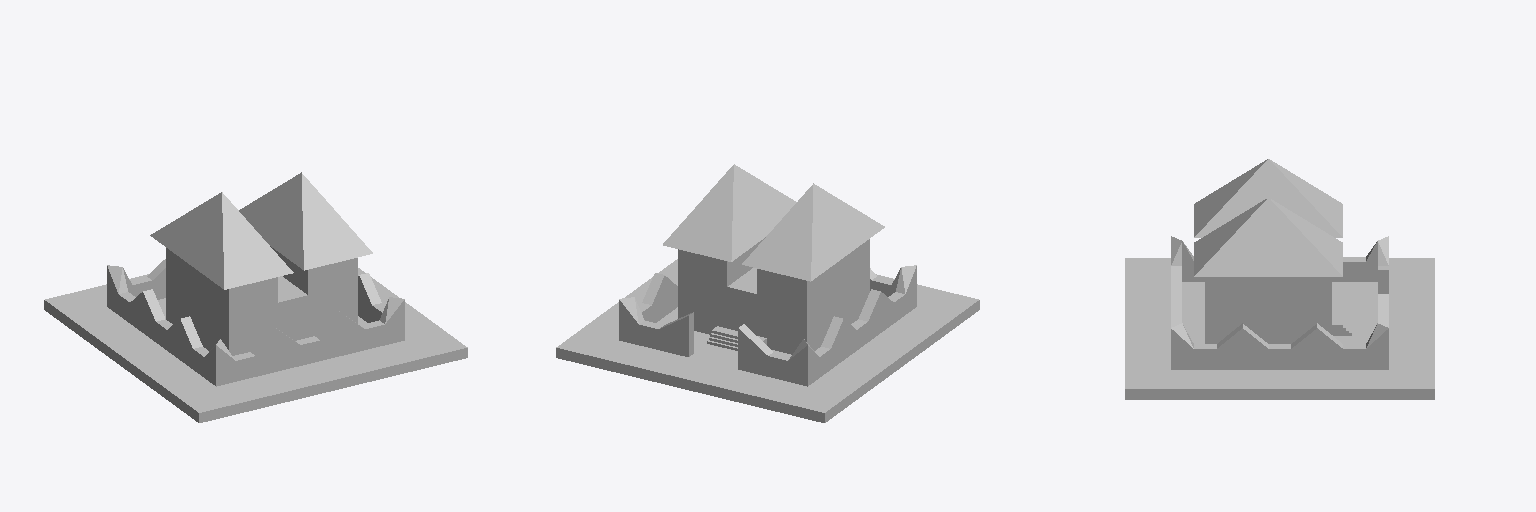
Rendered from house.obj.
3 renders of one model, left to right at view 1: azimuth 30°, elevation 25°; view 2: azimuth 150°, elevation 25°; view 3: azimuth 270°, elevation 25°, orthographic.
Parts seen in each view (by area): view 1: Layer0_001; view 2: Layer0_001; view 3: Layer0_001.
Part boxes in pixels (x1,y1,x2,y2): Layer0_001: (44,172,467,422); Layer0_001: (556,164,979,422); Layer0_001: (1125,159,1434,399).
Size of the model in its own units: 10.63 by 5.91 by 10.63.